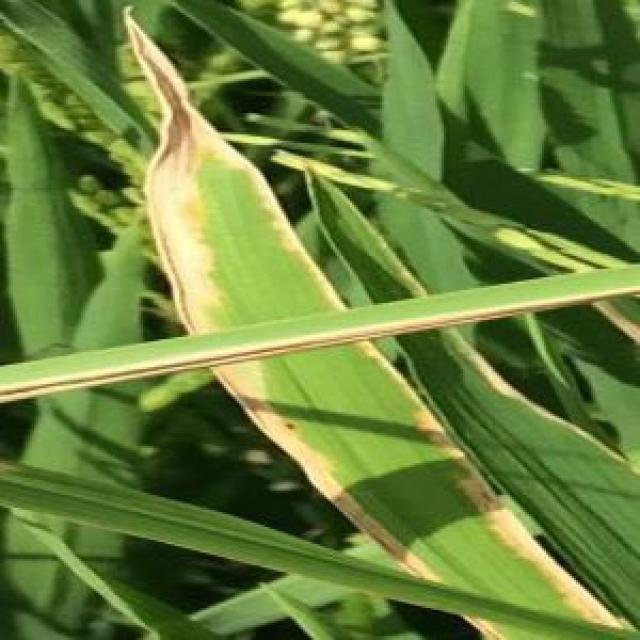leaf blight: (211, 367, 608, 614), (122, 8, 335, 326)
